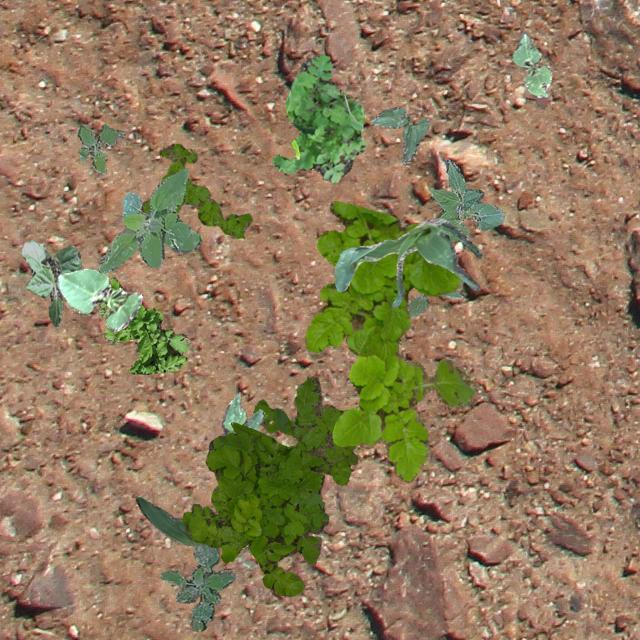crop: (334, 218, 481, 306), (428, 157, 504, 240), (56, 268, 142, 330), (20, 238, 80, 326), (369, 105, 428, 163), (134, 496, 202, 544), (511, 30, 552, 96)
weed: (304, 200, 474, 482), (182, 422, 328, 596), (272, 54, 364, 182), (252, 376, 356, 484), (98, 166, 202, 272), (140, 142, 250, 238), (96, 276, 190, 374), (158, 542, 234, 630), (76, 124, 124, 174), (220, 392, 262, 436), (408, 290, 462, 316)
